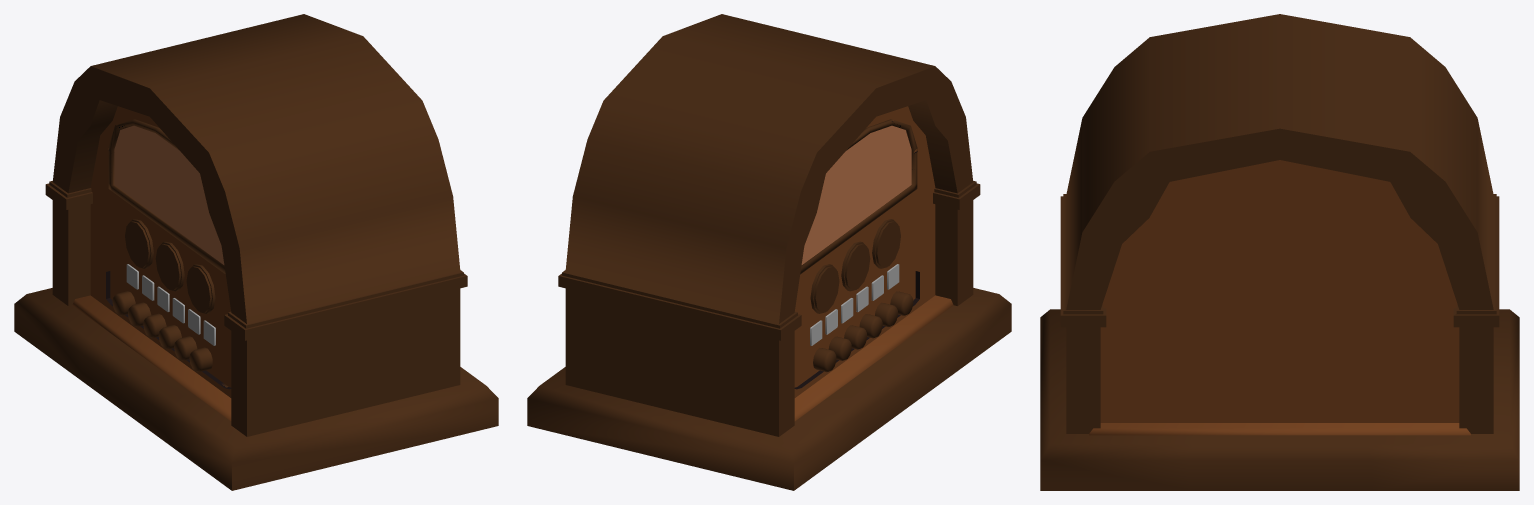
The model's file is Radio_retoques.fbx.
3 views of the same model, side by side, from view 1: azimuth 30°, elevation 25°; view 2: azimuth 150°, elevation 25°; view 3: azimuth 270°, elevation 25° (orthographic). The views are drawn at different scales.
Parts seen in each view (by area): view 1: Cubierta, Base, Front, Pantalla_Grande, Base_2, Borde_Pantalla_Grande, Boton_1, Boton_1.001, Boton_2; view 2: Cubierta, Base, Front, Pantalla_Grande, Base_2, Borde_Pantalla_Grande, Boton_1, Boton_1.001, Boton_2; view 3: Back, Cubierta, Base, Base_2.
Part boxes in pixels (left/top/right/bottom): Cubierta: left=45, top=14, right=467, bottom=436; Base: left=14, top=288, right=498, bottom=490; Front: left=90, top=106, right=231, bottom=397; Pantalla_Grande: left=114, top=125, right=224, bottom=264; Base_2: left=72, top=295, right=231, bottom=421; Borde_Pantalla_Grande: left=108, top=119, right=225, bottom=274; Boton_1: left=125, top=219, right=153, bottom=268; Boton_1.001: left=186, top=264, right=215, bottom=313; Boton_2: left=155, top=241, right=184, bottom=291; Cubierta: left=558, top=14, right=980, bottom=436; Base: left=527, top=288, right=1011, bottom=490; Front: left=794, top=106, right=935, bottom=397; Pantalla_Grande: left=801, top=125, right=911, bottom=264; Base_2: left=794, top=295, right=953, bottom=421; Borde_Pantalla_Grande: left=800, top=119, right=917, bottom=274; Boton_1: left=810, top=264, right=839, bottom=313; Boton_1.001: left=872, top=219, right=900, bottom=268; Boton_2: left=841, top=241, right=870, bottom=291; Back: left=1100, top=160, right=1459, bottom=422; Cubierta: left=1060, top=14, right=1499, bottom=433; Base: left=1040, top=309, right=1519, bottom=490; Base_2: left=1089, top=423, right=1470, bottom=435.
Size of the model in its own units: 200 by 227 by 283.
